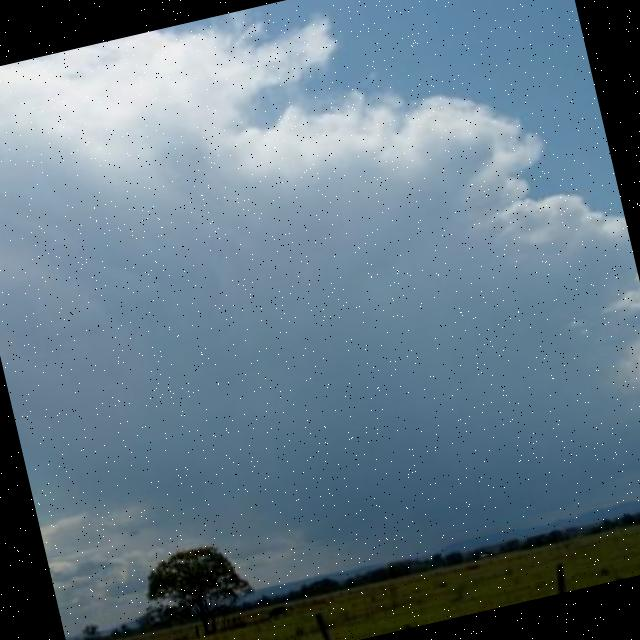Cb: (1, 1, 640, 476)
